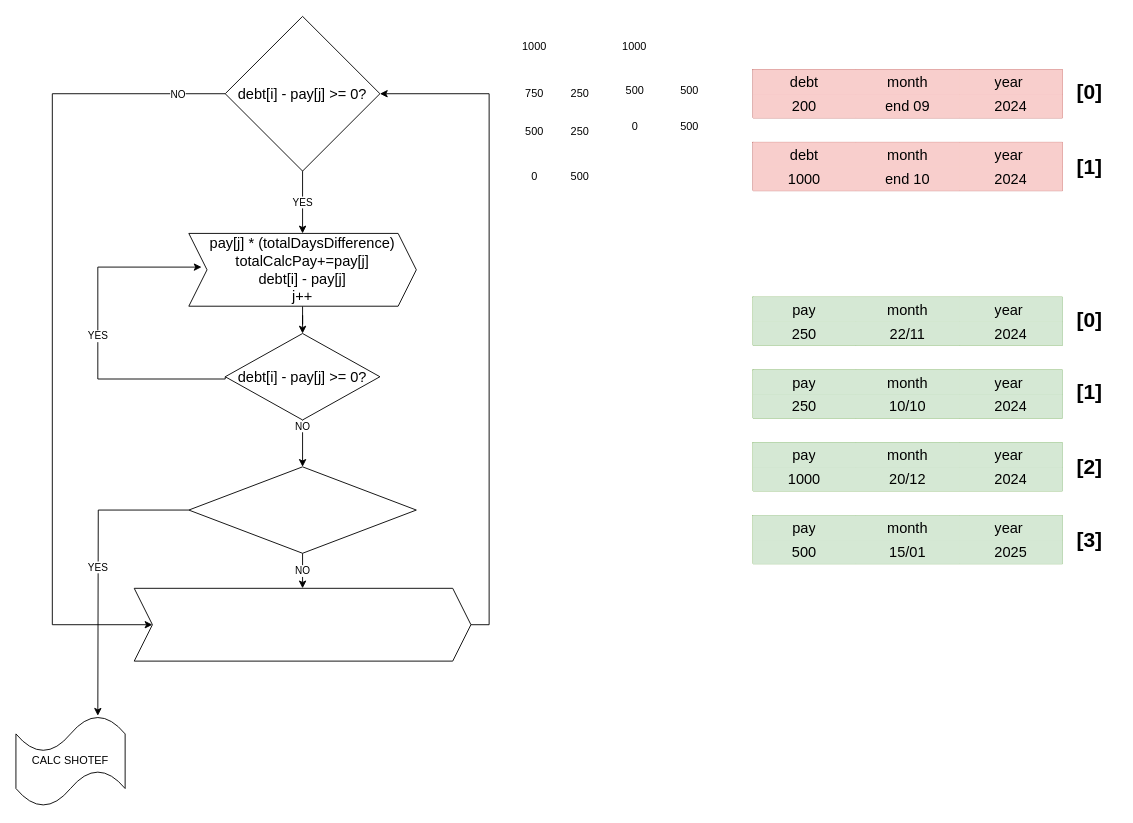
Image size: 1133x823. Some labels were removed from this diagram. The centre of each missing label's shape, as x and y in pixels:
if J === payArr.length: (302,509)
pay[j] -= debt[i] totalCalcPay += debt[i] * (totalDaysDiffernce) i++: (302,624)
